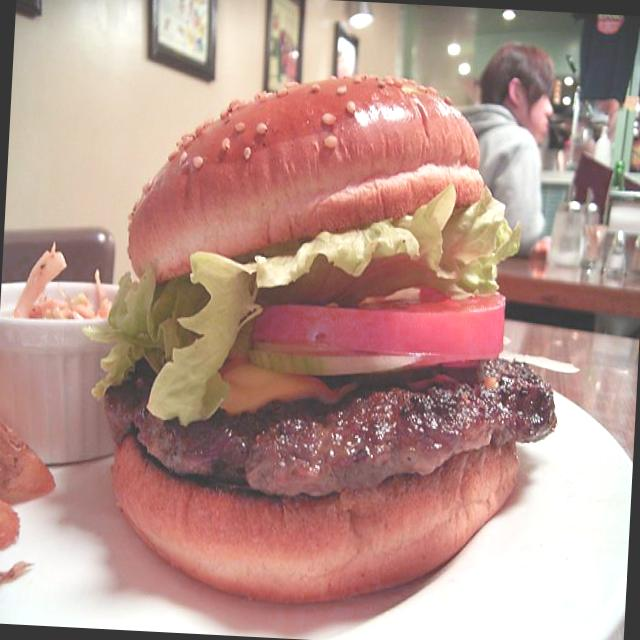Hamburger: (94, 64, 536, 612)
